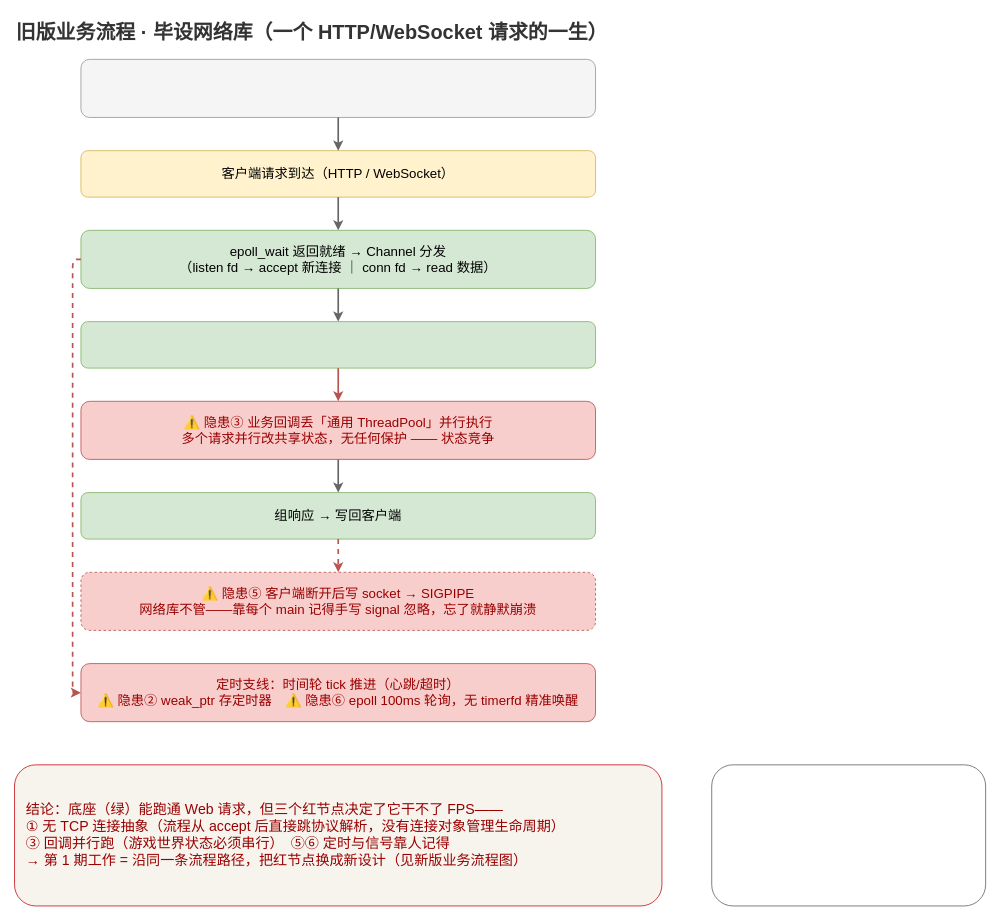
The diagram is 1000 pixels wide and 920 high, and some of its shapes have lost their labels. Each missing label, with the centre of its shape:
"main 启动 读 ConfigManager → 建 EventLoop → HTTP/WS Server 挂监听 → loop()" belongs at (338,88).
"图例（全系列统一） 绿 = 网络底座（可用） 黄 = Web 业务（FPS 用不上） 红 = 隐患节点 灰 = 启动/装配" belongs at (848,835).
"应用层解析协议（HTTP 报文 / WebSocket 握手与帧）" belongs at (338,344).
